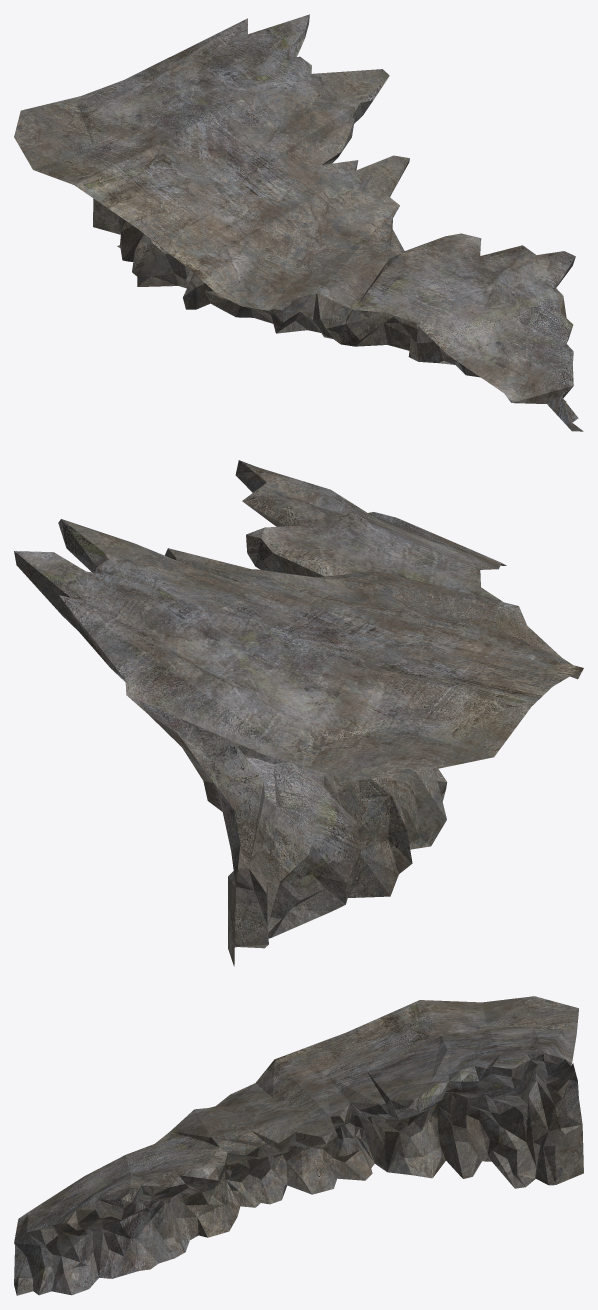
The model's file is RockWall4-2.fbx.
3 renders of one model, top to bottom at view 1: azimuth 30°, elevation 25°; view 2: azimuth 150°, elevation 25°; view 3: azimuth 270°, elevation 25°, orthographic. The views are drawn at different scales.
Parts seen in each view (by area): view 1: LV_NSaltus_Rock_CrystalRock01_SM_KBE; view 2: LV_NSaltus_Rock_CrystalRock01_SM_KBE; view 3: LV_NSaltus_Rock_CrystalRock01_SM_KBE.
Part boxes in pixels (bbox=[...]): LV_NSaltus_Rock_CrystalRock01_SM_KBE: bbox=[14, 14, 583, 431]; LV_NSaltus_Rock_CrystalRock01_SM_KBE: bbox=[14, 460, 583, 966]; LV_NSaltus_Rock_CrystalRock01_SM_KBE: bbox=[14, 996, 583, 1295].
Bounding box in the file's own units: 12.93 × 8.06 × 18.94.
1 material, 1 textured.
